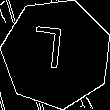L_S: (38, 27, 75, 80)
